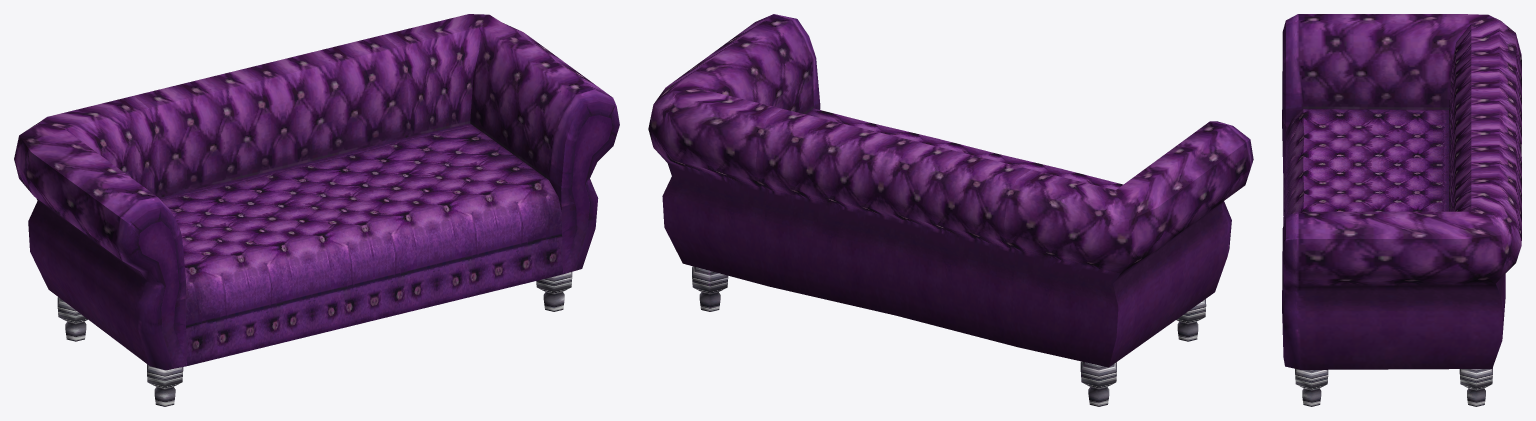
The model's file is furni_0200724.FBX.
The picture shows the model from 3 angles, left to right: view 1: azimuth 30°, elevation 25°; view 2: azimuth 150°, elevation 25°; view 3: azimuth 270°, elevation 25°; orthographic projection. The views are drawn at different scales.
Parts seen in each view (by area): view 1: furni_0200724; view 2: furni_0200724; view 3: furni_0200724.
Part boxes in pixels (<box>): furni_0200724: <box>14,14,619,406</box>; furni_0200724: <box>648,14,1253,406</box>; furni_0200724: <box>1282,14,1521,406</box>.
Bounding box in the file's own units: 158 × 64.79 × 70.91.
Materials: 1 (1 with a texture image).
